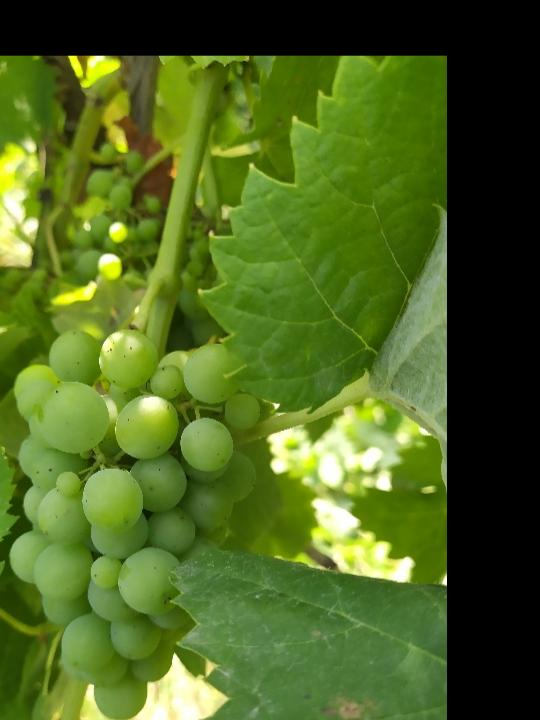grape: (6, 325, 258, 720)
